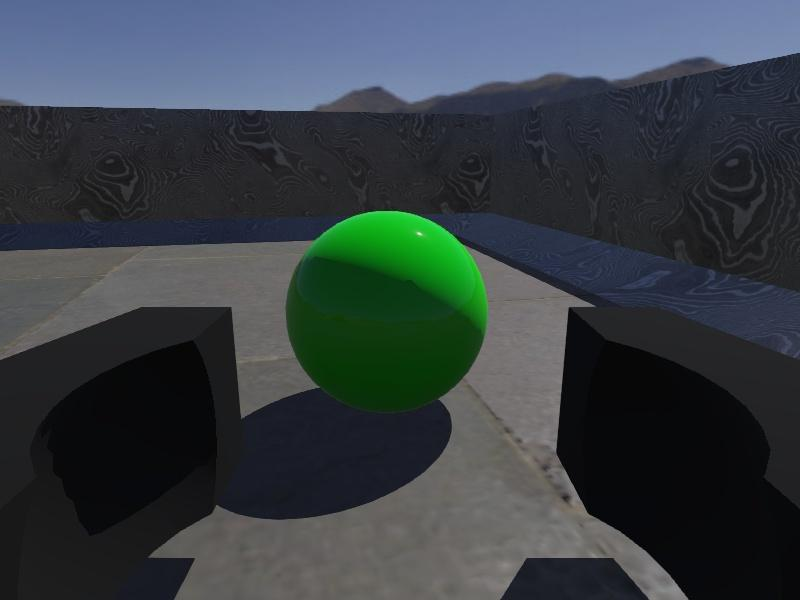green ball: (284, 209, 489, 416)
